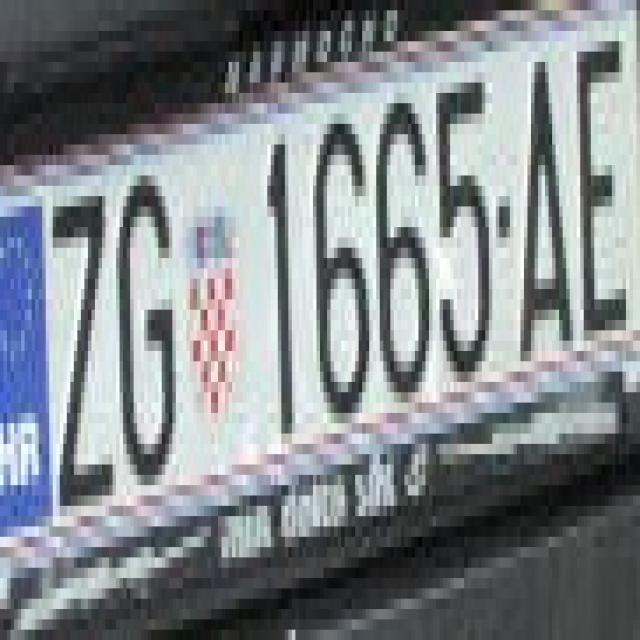1: (256, 144, 310, 454)
5: (429, 72, 489, 372)
6: (372, 92, 430, 402), (313, 103, 366, 434)
A: (513, 51, 570, 362)
E: (576, 41, 634, 351)
G: (112, 165, 176, 475)
Z: (49, 175, 112, 486)
